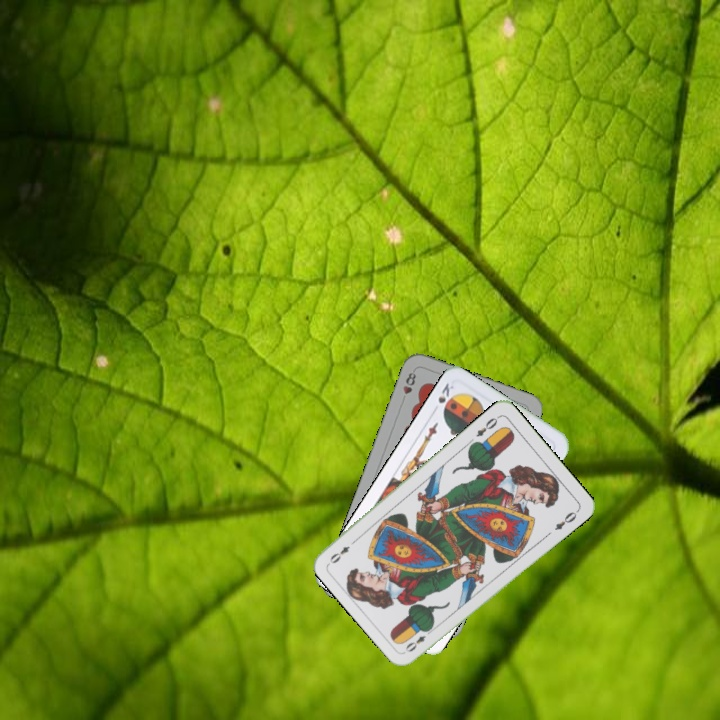EO: (401, 625, 435, 655), (472, 412, 502, 439)
H8: (398, 368, 419, 405)
SK: (429, 379, 456, 415)
